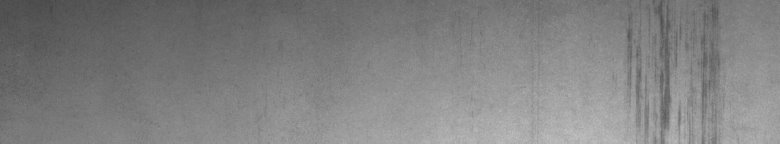ka: (627, 4, 718, 136)
